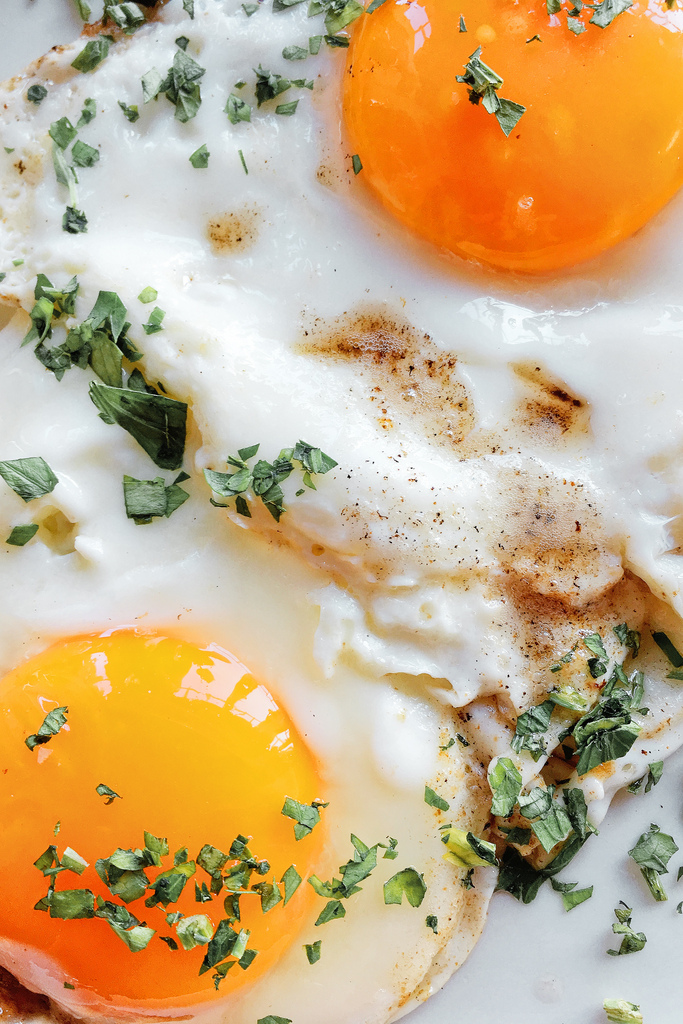fried egg: (16, 16, 683, 814), (8, 431, 526, 1024)
